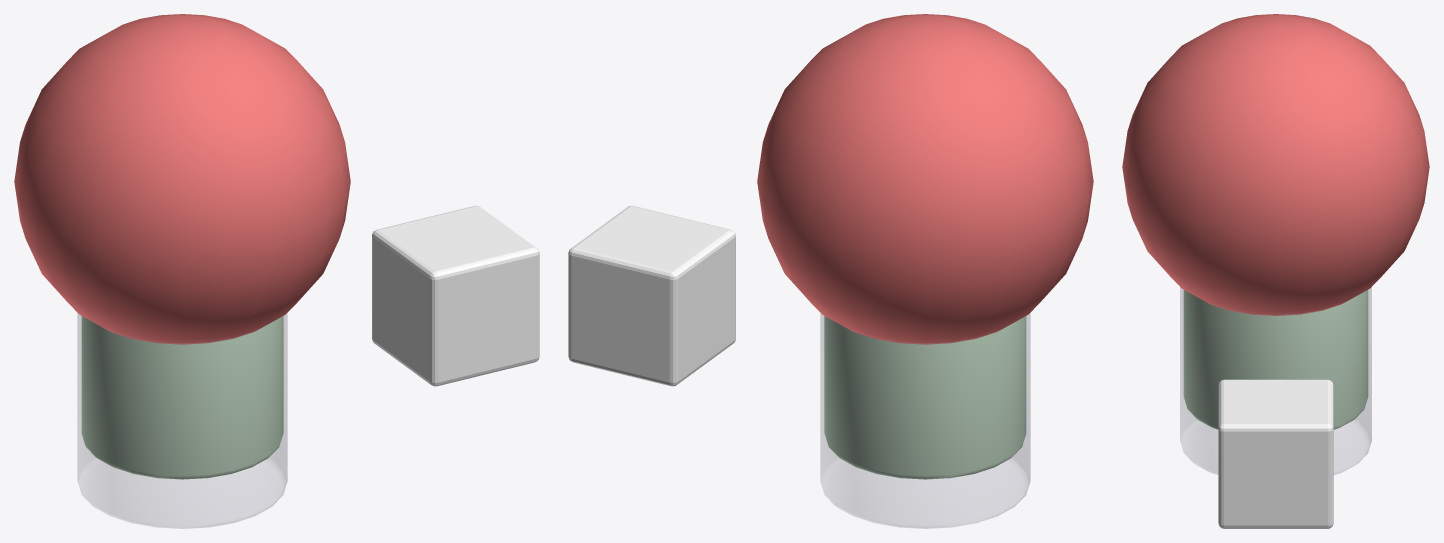
Rendered from chim_neutralisation_vinaigre_bicarbonate_v1.glb.
The picture shows the model from 3 angles, left to right: view 1: azimuth 30°, elevation 25°; view 2: azimuth 150°, elevation 25°; view 3: azimuth 270°, elevation 25°; orthographic projection. The views are drawn at different scales.
Visible parts, largest first — view 1: ballon__inflated, becher, vinaigre__neutralized, bicarbonate; view 2: ballon__inflated, becher, vinaigre__neutralized, bicarbonate; view 3: ballon__inflated, becher, bicarbonate, vinaigre__neutralized.
Part boxes in pixels (x1,y1,x2,y2): ballon__inflated: (14, 14, 350, 344); becher: (77, 313, 287, 528); vinaigre__neutralized: (81, 316, 283, 479); bicarbonate: (372, 205, 539, 386); ballon__inflated: (757, 14, 1093, 344); becher: (820, 313, 1030, 528); vinaigre__neutralized: (824, 316, 1026, 479); bicarbonate: (568, 205, 735, 386); ballon__inflated: (1122, 14, 1429, 315); becher: (1180, 287, 1371, 474); bicarbonate: (1218, 379, 1333, 528); vinaigre__neutralized: (1183, 290, 1368, 429).
Size of what is drawn, in the model's own units: 2.6 by 2.4 by 1.6.
